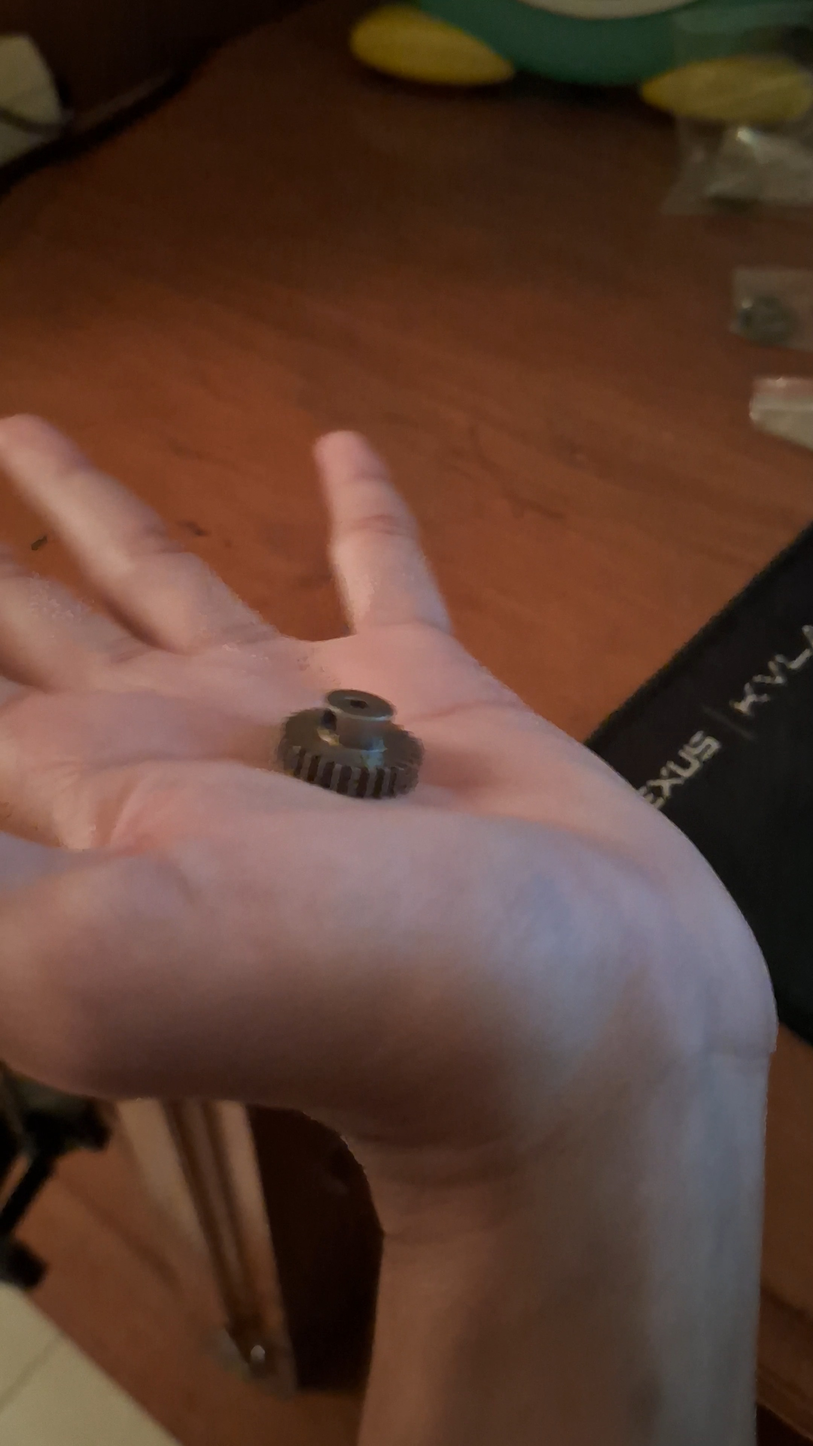spur gear: (277, 690, 423, 799)
